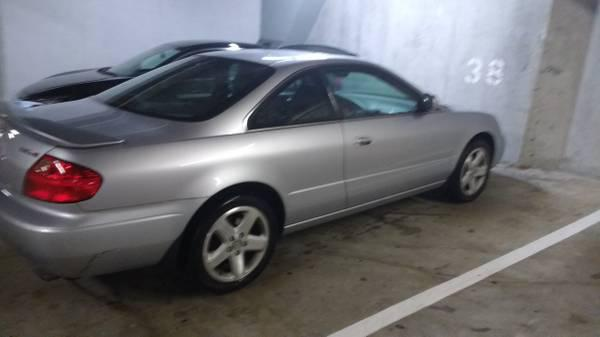acura: (1, 43, 520, 294)
